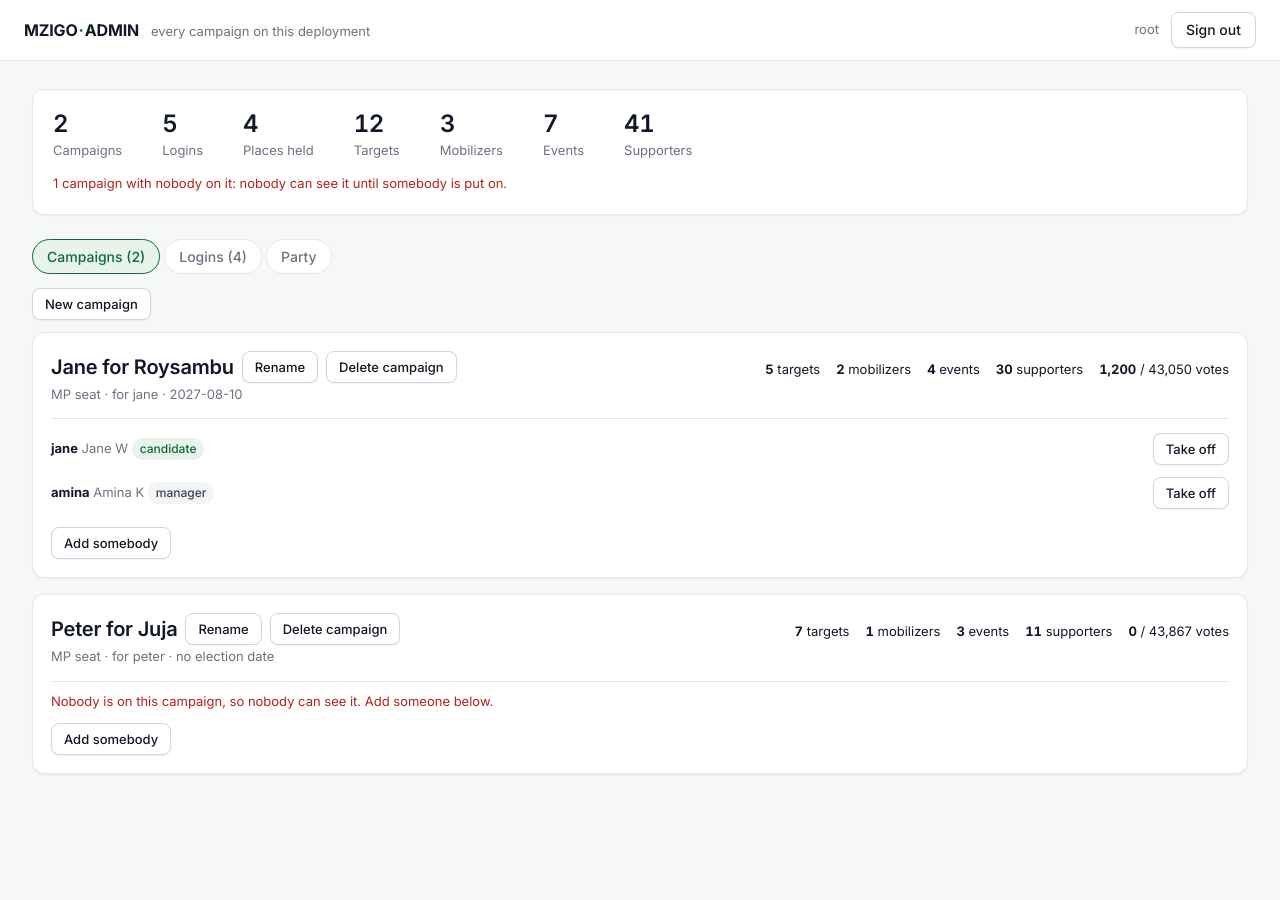
Test: what the console can repair › resets a password and shows it once
The width and height of the screenshot is (1280, 900).
What coordinates should you click on to do the following:
click the button "Logins (4)"
I would click on:
 (213, 256)
Its box is 164,239 -> 262,274.
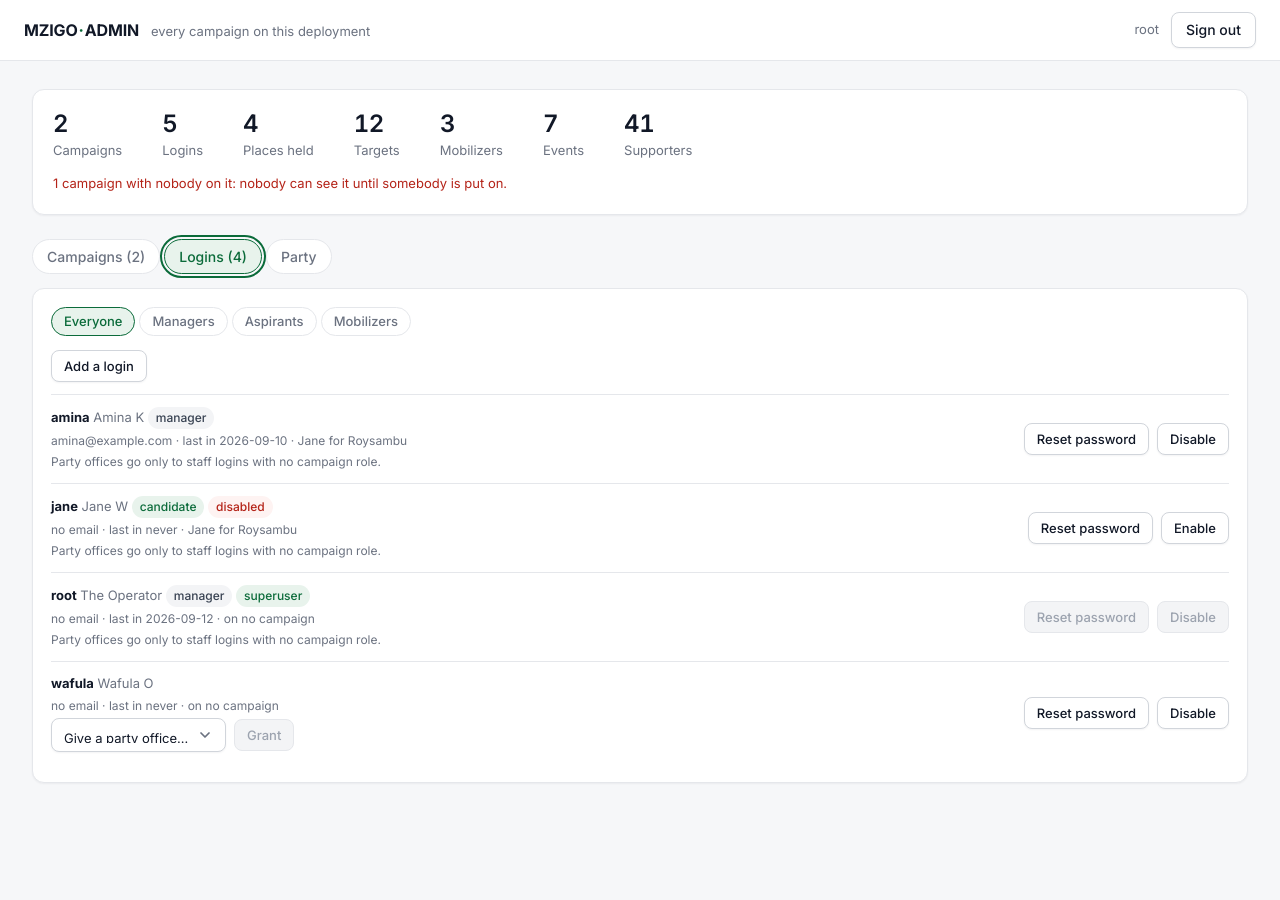
What coordinates should you click on to do the following:
click the 2nd button "Reset password"
I would click on:
 (1090, 528)
Its box is 1028,512 -> 1153,544.
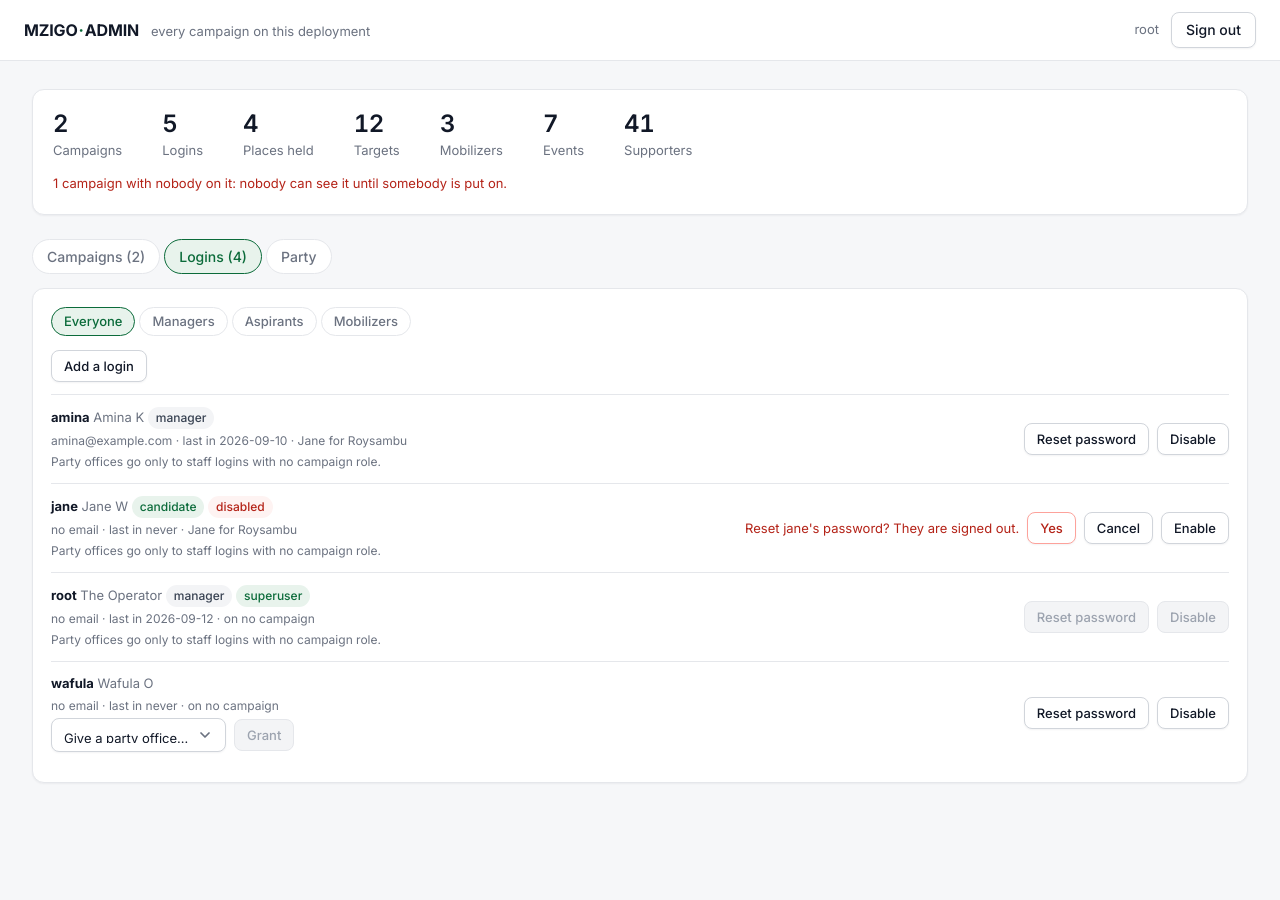
What coordinates should you click on to do the following:
click the button "Yes"
I would click on:
 (1052, 528)
Its box is 1027,512 -> 1076,544.
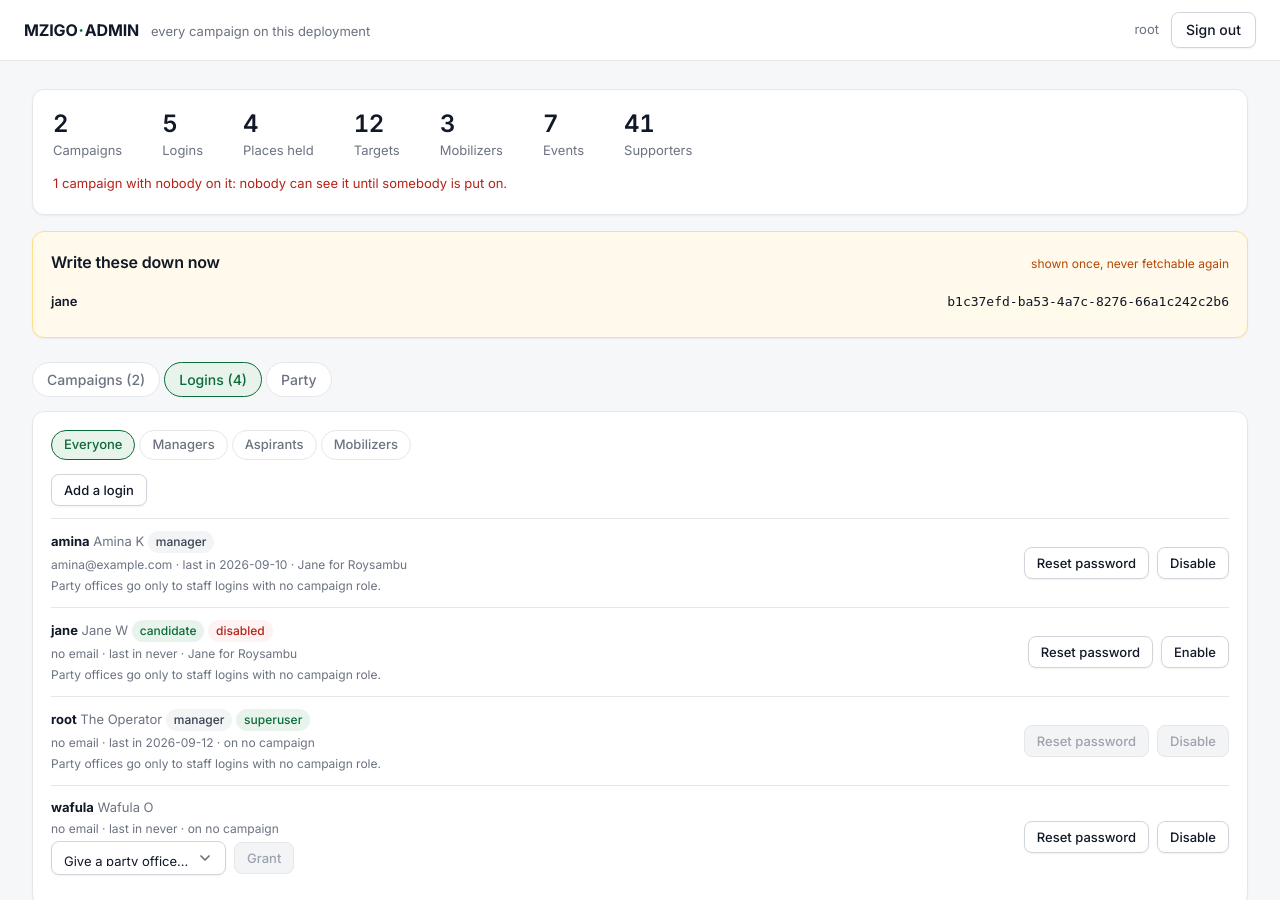
Now the text "shown once, never fetchable again" is shown, box 1031,255 -> 1229,273
